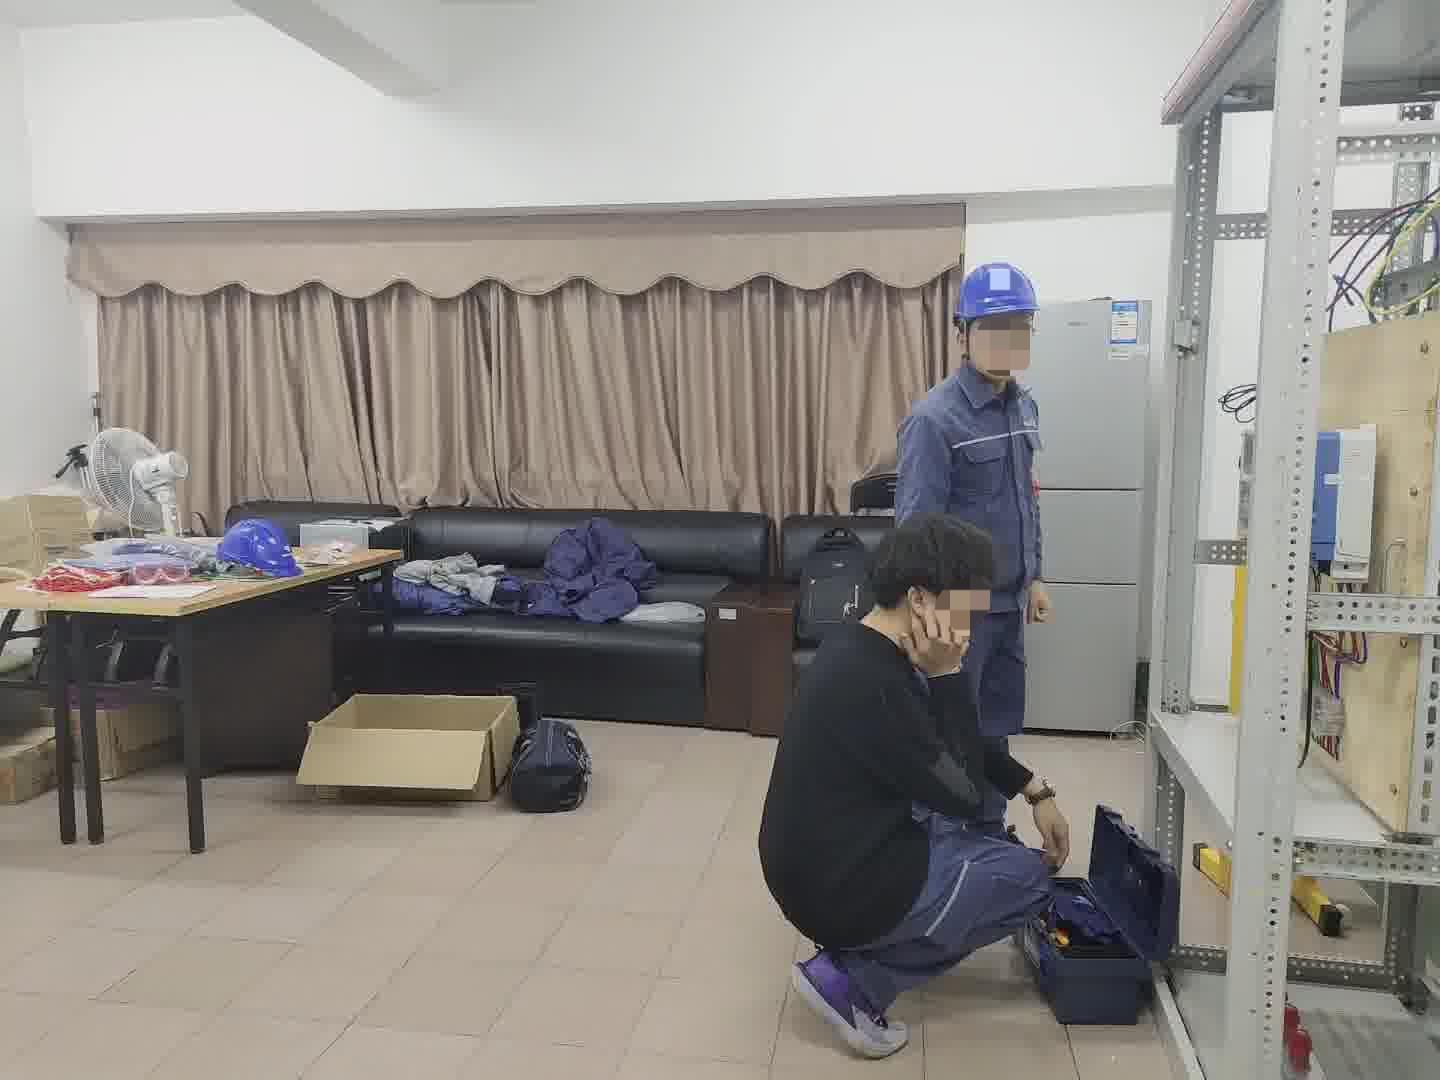halt: (951, 261, 1043, 382)
noear: (898, 573, 967, 649)
unhalt: (869, 516, 1001, 661)
